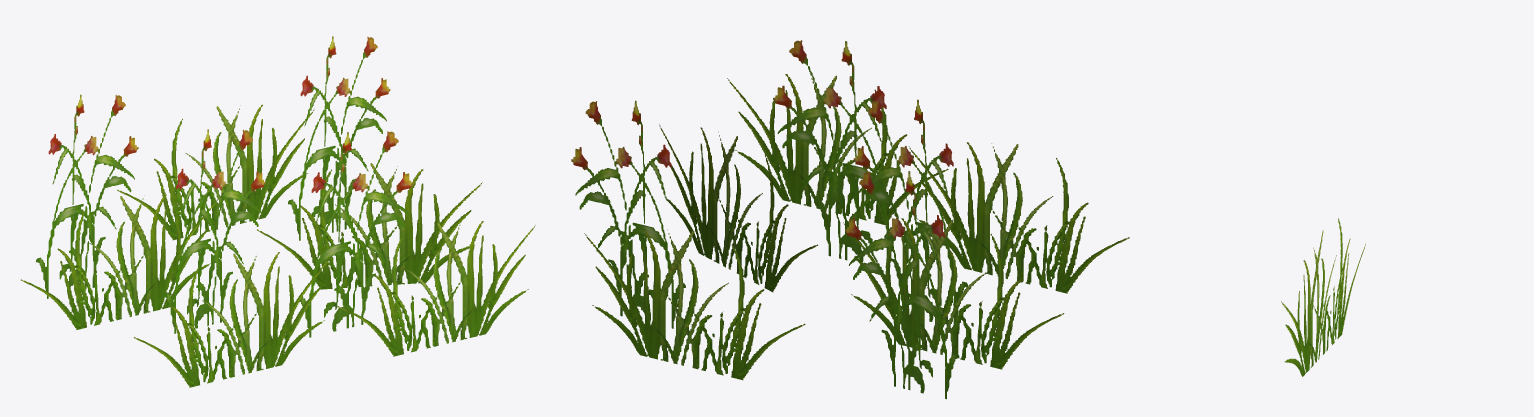
The model's file is F01_KW_plant02.FBX.
3 views of the same model, side by side, from view 1: azimuth 30°, elevation 25°; view 2: azimuth 150°, elevation 25°; view 3: azimuth 270°, elevation 25° (orthographic). The views are drawn at different scales.
Visible parts, largest first — view 1: F01_kw_nature01; view 2: F01_kw_nature01; view 3: F01_kw_nature01.
Boxes of the visible parts, x1=… form: F01_kw_nature01: x1=21, y1=36, x2=535, y2=387; F01_kw_nature01: x1=571, y1=40, x2=1129, y2=399; F01_kw_nature01: x1=1281, y1=218, x2=1365, y2=376.
Bounding box in the file's own units: 143 × 66.22 × 102.
